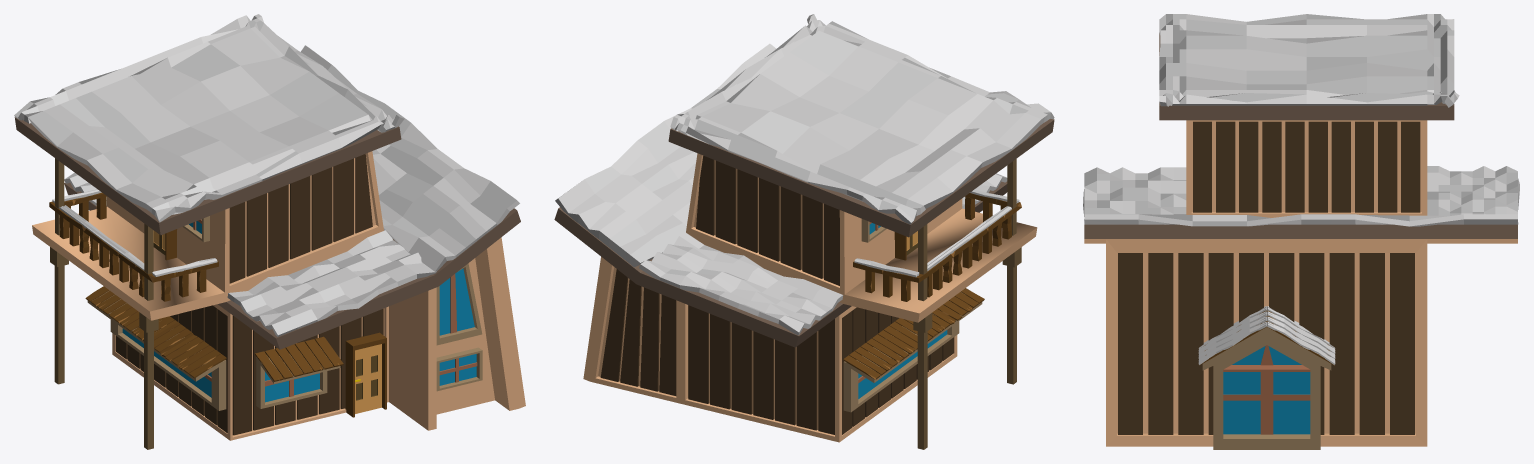
The model's file is House_02_Mirrored.fbx.
3 renders of one model, left to right at view 1: azimuth 30°, elevation 25°; view 2: azimuth 150°, elevation 25°; view 3: azimuth 270°, elevation 25°, orthographic. The views are drawn at different scales.
Parts seen in each view (by area): view 1: House_02_Merged; view 2: House_02_Merged; view 3: House_02_Merged.
Boxes of the visible parts, left/top/right/bottom form: House_02_Merged: left=14, top=14, right=525, bottom=449; House_02_Merged: left=554, top=14, right=1054, bottom=449; House_02_Merged: left=1083, top=14, right=1519, bottom=449.
Bounding box in the file's own units: 786 × 621 × 815.
